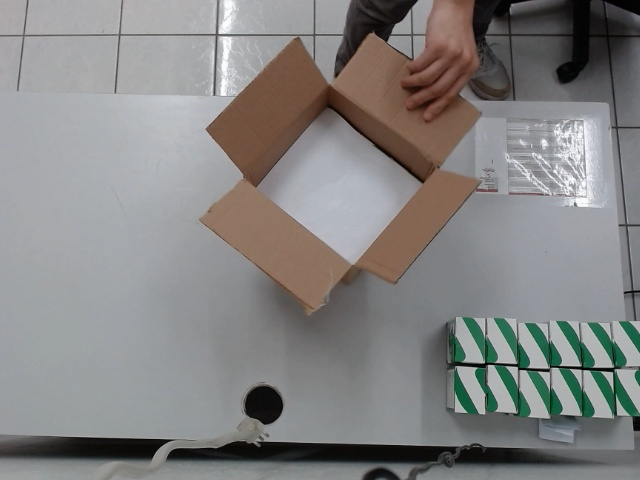caixa_principal: (190, 32, 481, 312)
